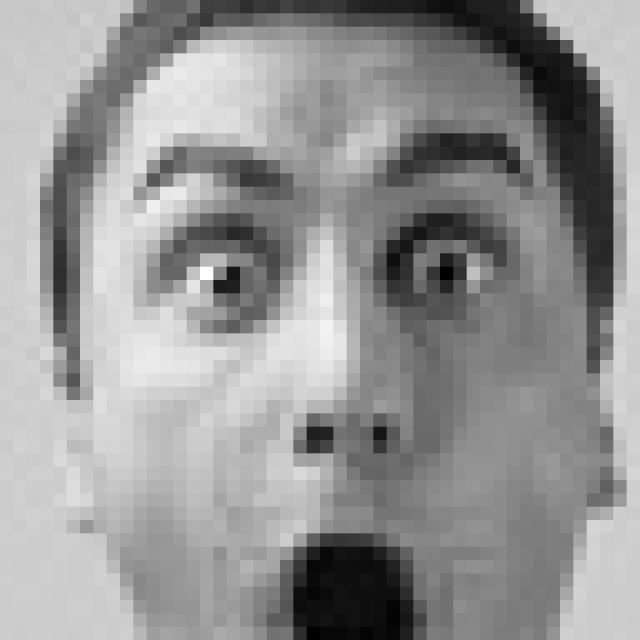surprise: (129, 131, 541, 640)
